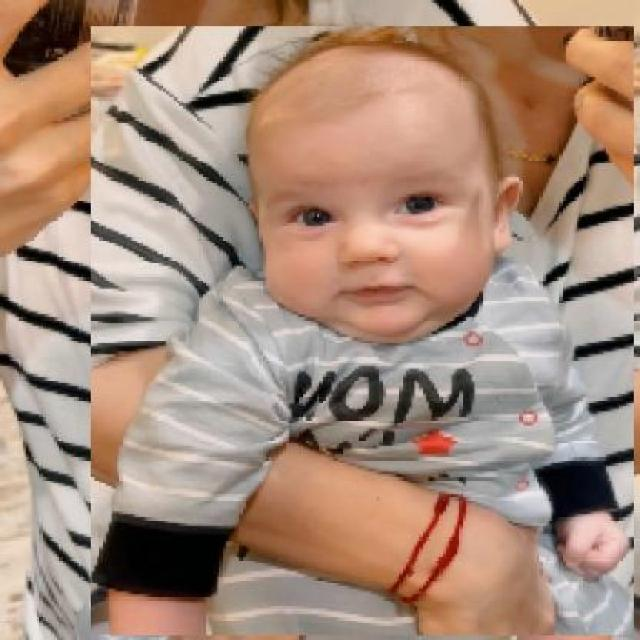child: (89, 26, 634, 637)
